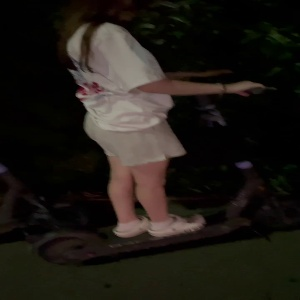human on a scooter: (23, 2, 287, 270)
